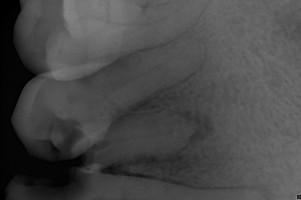Furcation Involvement: (173, 109, 217, 145)
